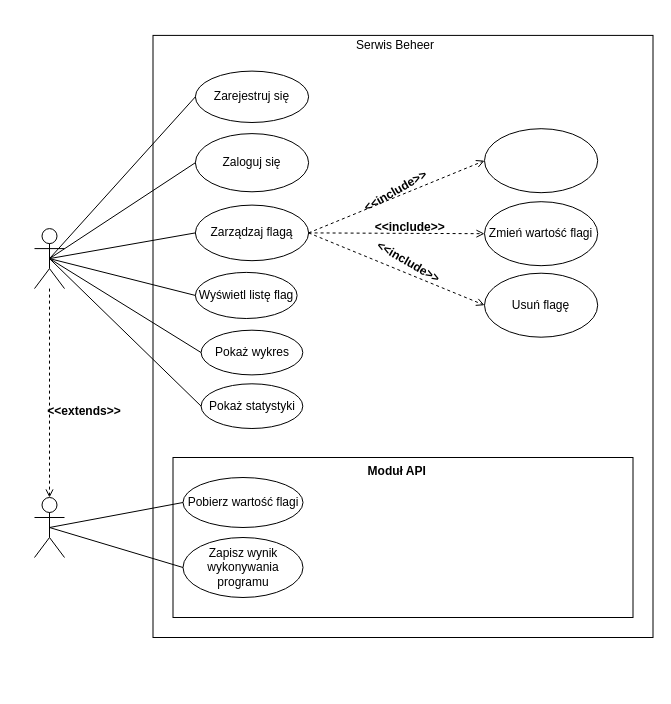
The diagram is 671 pixels wide and 704 high, and some of its shapes have lost their labels. Each missing label, with the centre of its shape:
"Programista" goes at (x=49, y=527).
"Stwórz flagę" goes at (x=541, y=160).
"Użytkownik" goes at (x=49, y=258).
